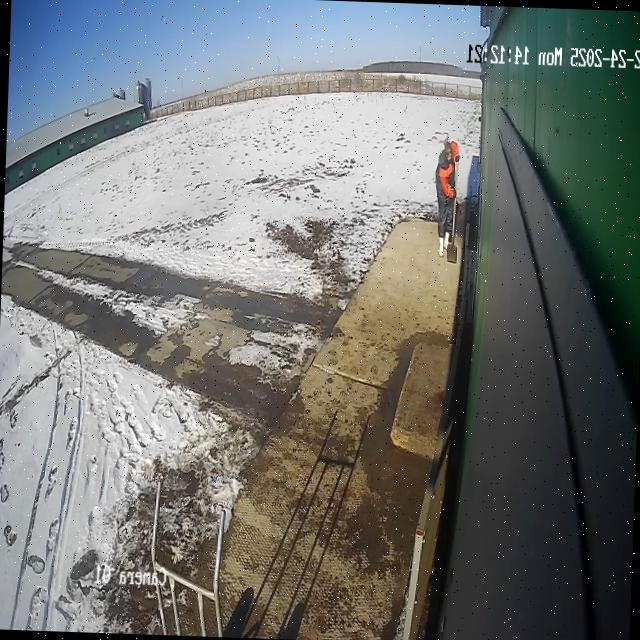Red uniform: (431, 138, 462, 260)
